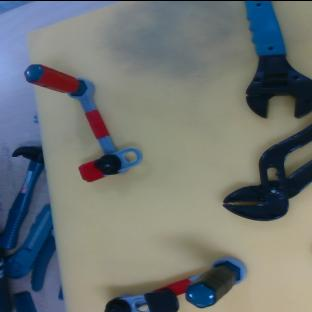non_pass: (98, 253, 252, 312)
pass: (16, 40, 145, 192)
